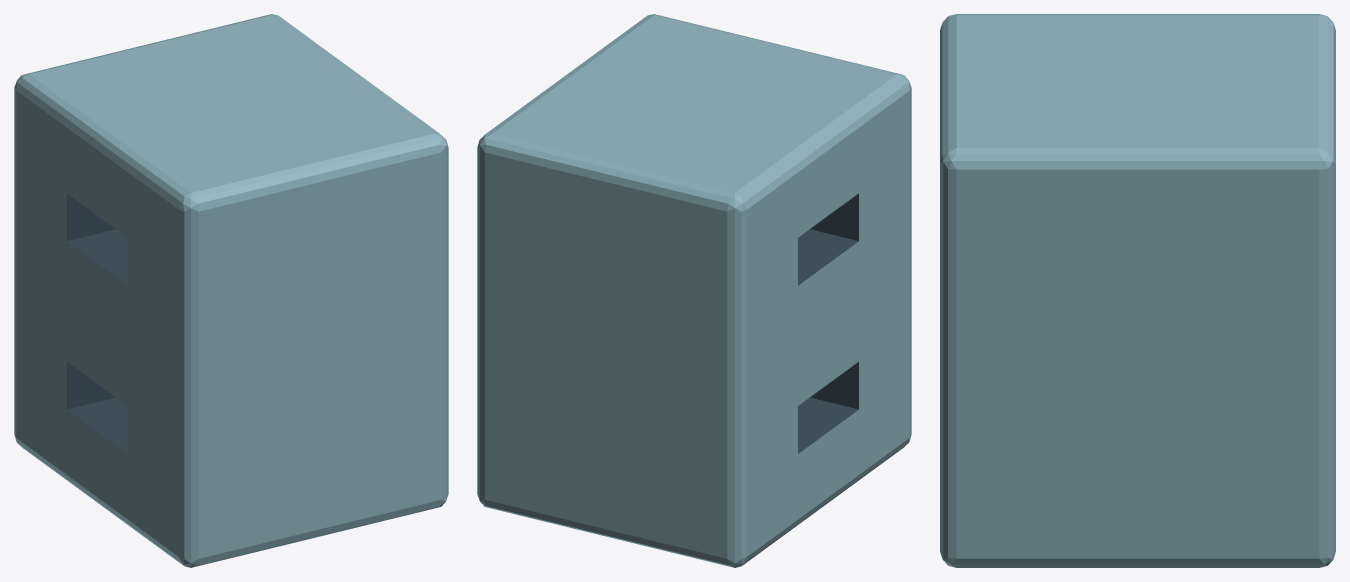
3 views of the same model, side by side, from view 1: azimuth 30°, elevation 25°; view 2: azimuth 150°, elevation 25°; view 3: azimuth 270°, elevation 25° (orthographic). The views are drawn at different scales.
Parts seen in each view (by area): view 1: geometry_0; view 2: geometry_0; view 3: geometry_0.
Boxes of the visible parts, <box> form: geometry_0: <box>14,14,448,567</box>; geometry_0: <box>477,14,911,567</box>; geometry_0: <box>940,14,1335,567</box>.
Size of the model in its own units: 0.021 by 0.028 by 0.024.
Materials: 1 (1 with a texture image).
